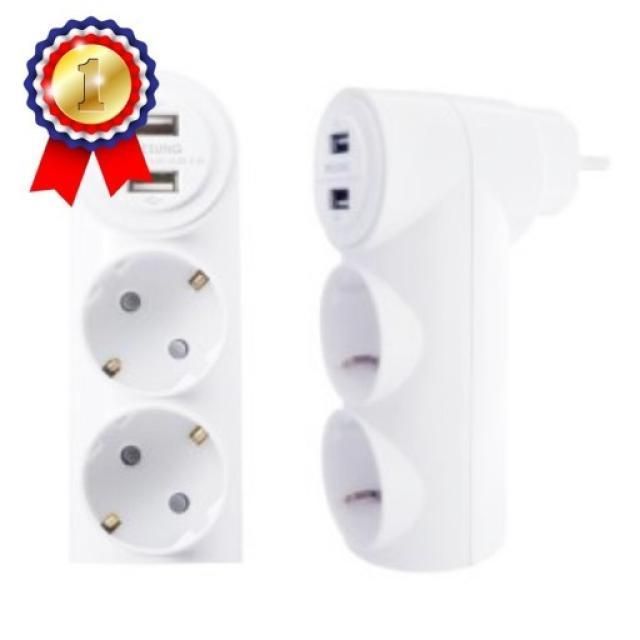typeb: (64, 237, 274, 585)
